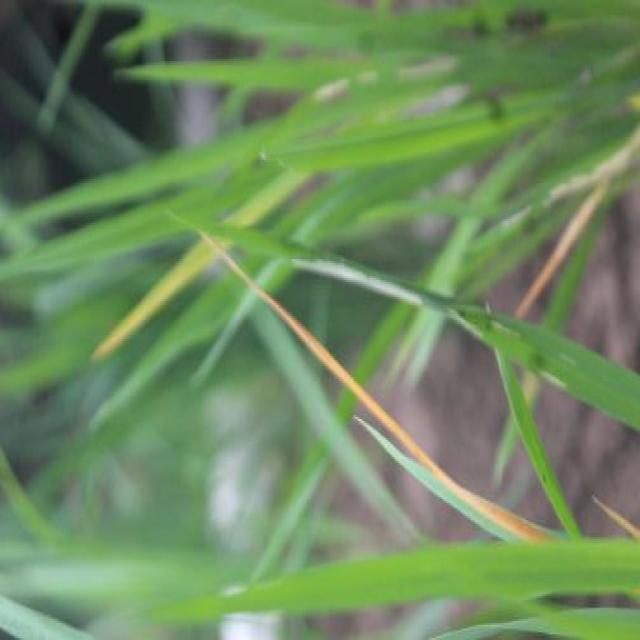Rice Tungro: (308, 323, 380, 409), (241, 271, 302, 329)
